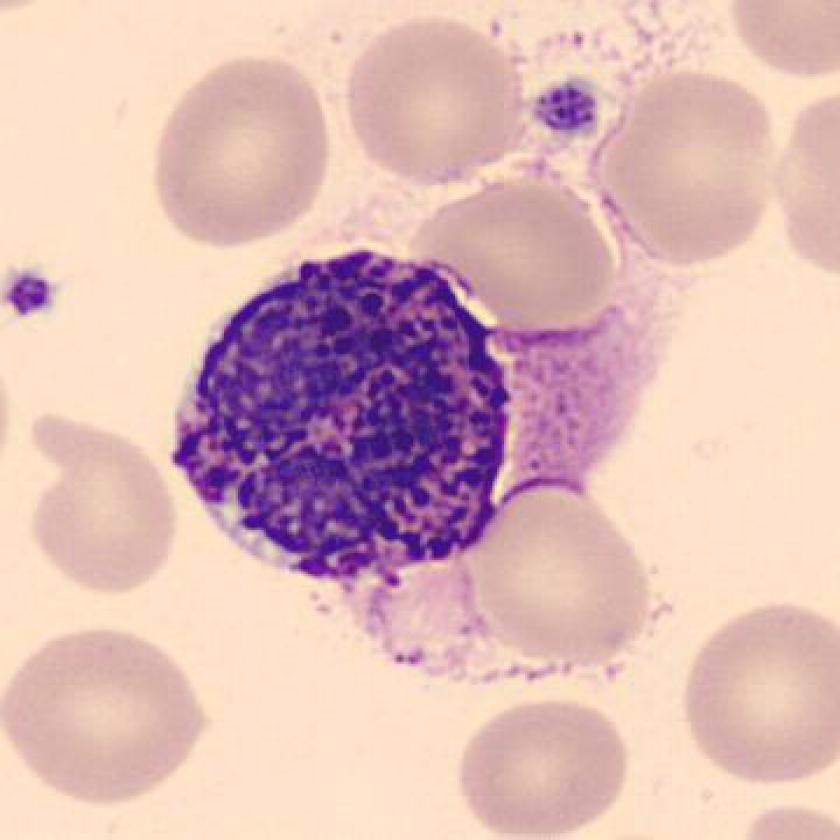basophil: (167, 246, 505, 573)
